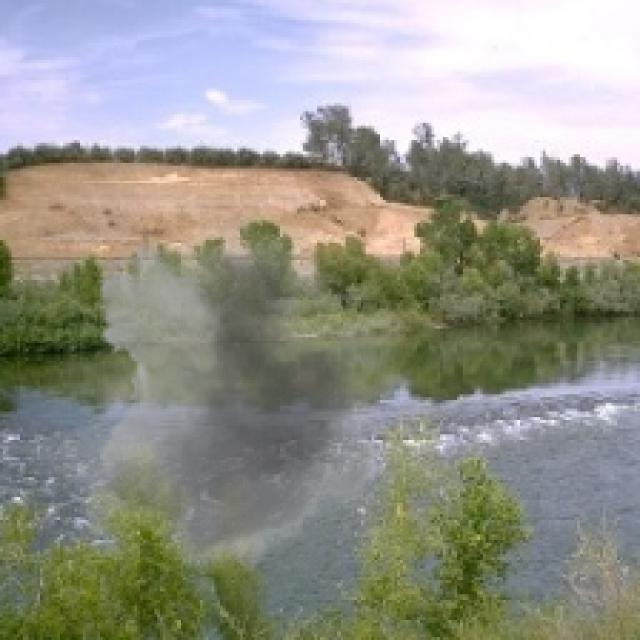smoke: (17, 217, 423, 586)
